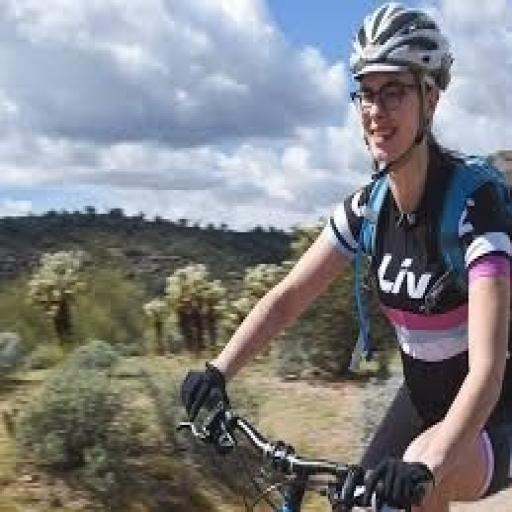cycling: (178, 0, 510, 509)
